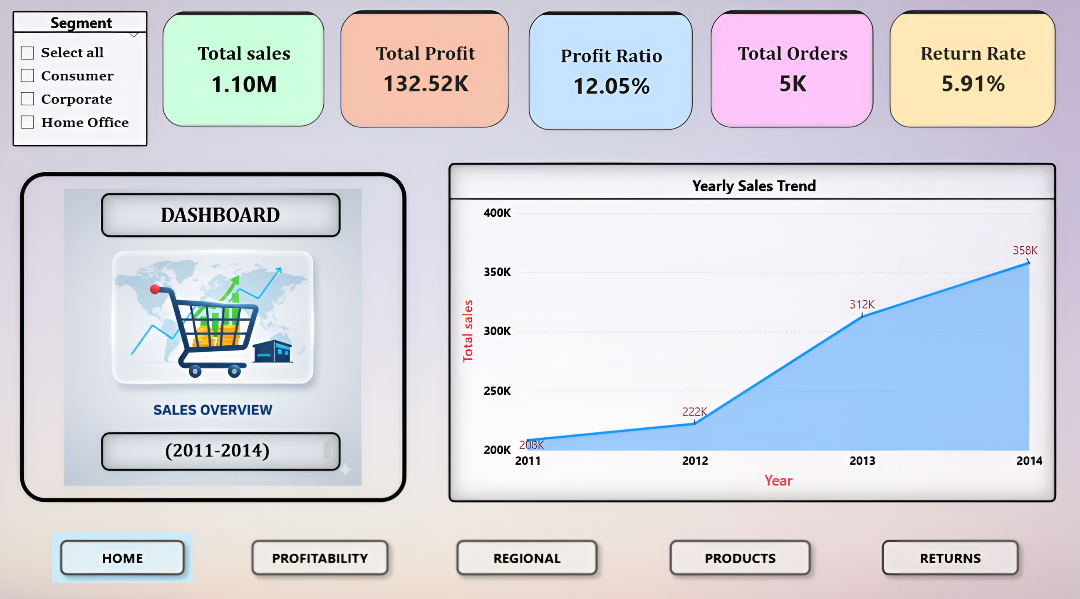

This screenshot's page, from the dashboard's own definition file:
{"tool":"powerbi","page":{"name":"Home / Overview","canvas":[1280,720],"ordinal":0},"visuals":[{"type":"lineChart","title":"Yearly Sales Trend","fields":{"Y":["Orders.Total sales"],"Category":["Orders.Order Date.Variation.Date Hierarchy.Year","Orders.Order Date.Variation.Date Hierarchy.Quarter","Orders.Order Date.Variation.Date Hierarchy.Month","Orders.Order Date.Variation.Date Hierarchy.Day"]},"box":[530.8,200.3,714.2,399.3],"z":0},{"type":"slicer","title":"Segment","fields":{"Values":["Orders.Segment"]},"box":[18.1,21.7,158,159.3],"z":1000},{"type":"cardVisual","fields":{"Data":["Orders.Total sales"]},"box":[194.4,22,190.8,137],"z":2000},{"type":"cardVisual","fields":{"Data":["Orders.Profit Ratio"]},"box":[624.9,22,193.2,140.6],"z":3000},{"type":"cardVisual","fields":{"Data":["Orders.Total Orders"]},"box":[838.9,20.8,192,138.2],"z":4000},{"type":"cardVisual","fields":{"Data":["Orders.Return Rate"]},"box":[1049.2,20.8,195.7,138.2],"z":5000},{"type":"cardVisual","fields":{"Data":["Orders.Total Profit"]},"box":[403.5,20.8,198.1,138.2],"z":6000},{"type":"image","box":[27.4,211.3,454.2,388.3],"z":7000},{"type":"actionButton","box":[289.5,634.6,179.8,60.3],"z":8000},{"type":"actionButton","box":[530.8,634.6,184.6,60.3],"z":9000},{"type":"actionButton","box":[781.8,634.6,184.6,60.3],"z":10000},{"type":"actionButton","box":[1030.3,634.6,179.8,60.3],"z":11000},{"type":"actionButton","box":[65.1,634.6,165.3,60.3],"z":12000},{"type":"textbox","box":[122.1,236,281.3,52.1],"z":13000},{"type":"textbox","box":[122.1,517.3,281.3,45.3],"z":14000}]}

Visuals, with their boxes in screenshot pixels (x1, y1, x2, y2), scaled from the page's 1280x720 canvas onto the 1080x599 screenshot:
"Yearly Sales Trend" lineChart: {"x1": 448, "y1": 167, "x2": 1050, "y2": 499}
"Segment" slicer: {"x1": 15, "y1": 18, "x2": 149, "y2": 151}
cardVisual - Orders.Total sales: {"x1": 164, "y1": 18, "x2": 325, "y2": 132}
cardVisual - Orders.Profit Ratio: {"x1": 527, "y1": 18, "x2": 690, "y2": 135}
cardVisual - Orders.Total Orders: {"x1": 708, "y1": 17, "x2": 870, "y2": 132}
cardVisual - Orders.Return Rate: {"x1": 885, "y1": 17, "x2": 1050, "y2": 132}
cardVisual - Orders.Total Profit: {"x1": 340, "y1": 17, "x2": 508, "y2": 132}
image: {"x1": 23, "y1": 176, "x2": 406, "y2": 499}
actionButton: {"x1": 244, "y1": 528, "x2": 396, "y2": 578}
actionButton: {"x1": 448, "y1": 528, "x2": 604, "y2": 578}
actionButton: {"x1": 660, "y1": 528, "x2": 815, "y2": 578}
actionButton: {"x1": 869, "y1": 528, "x2": 1021, "y2": 578}
actionButton: {"x1": 55, "y1": 528, "x2": 194, "y2": 578}
textbox: {"x1": 103, "y1": 196, "x2": 340, "y2": 240}
textbox: {"x1": 103, "y1": 430, "x2": 340, "y2": 468}
